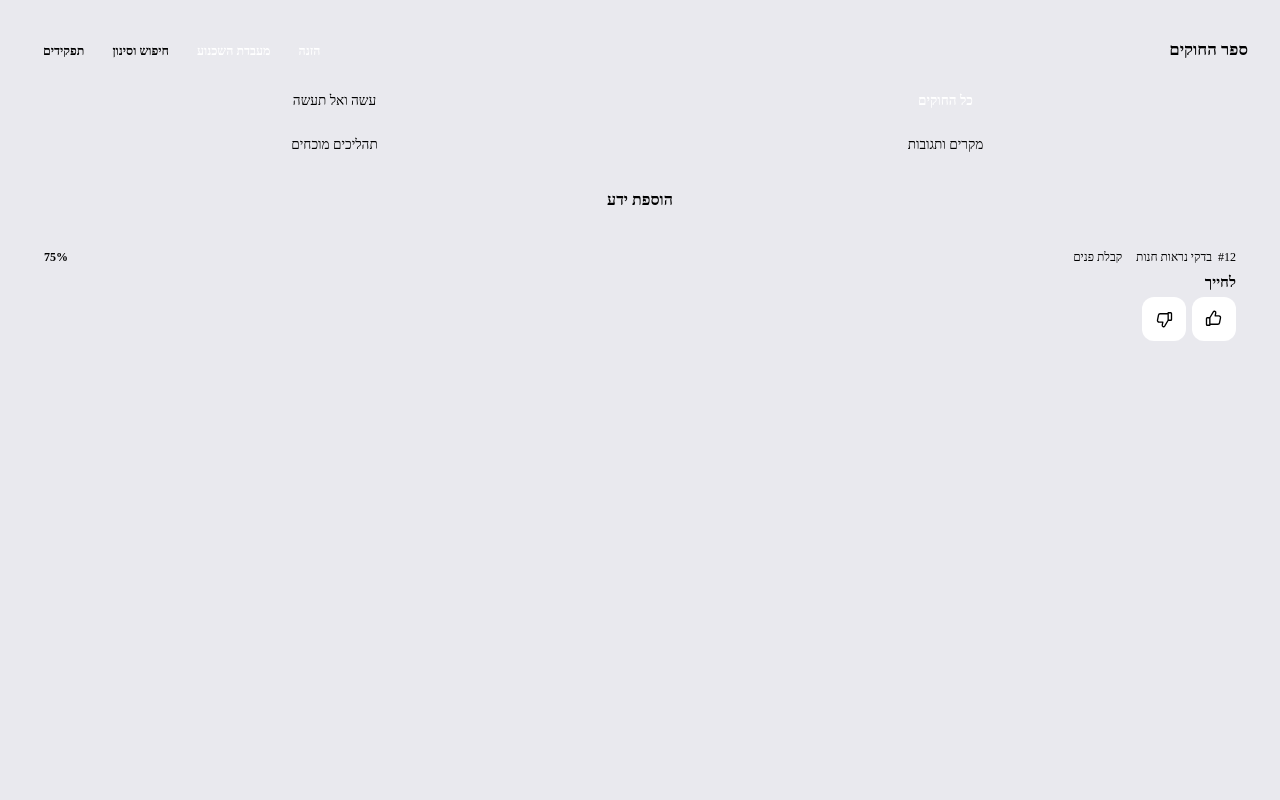
Test case: what an owner gets on the same list › opens the role catalogue as a sheet, not as furniture in the list
What coordinates should you click on to do the following:
click the button "תפקידים"
I would click on:
 (64, 51)
Its box is [32,34,95,68].
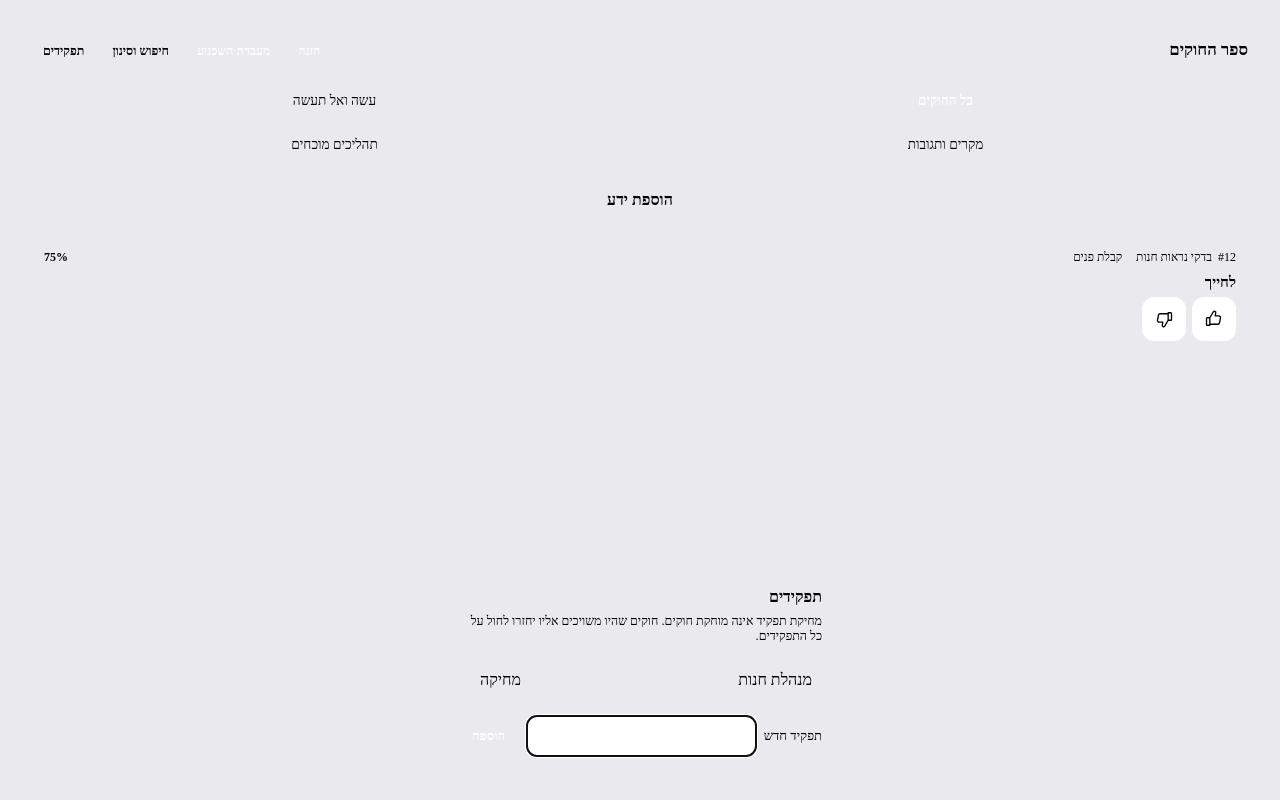
expect the dialog "תפקידים" is shown: met, box [430,562,850,782]
